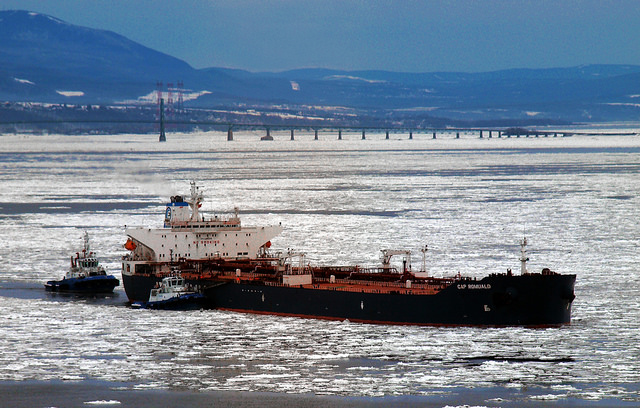tanker: (122, 187, 585, 329)
tug_boat: (41, 233, 119, 301), (124, 266, 197, 310)
